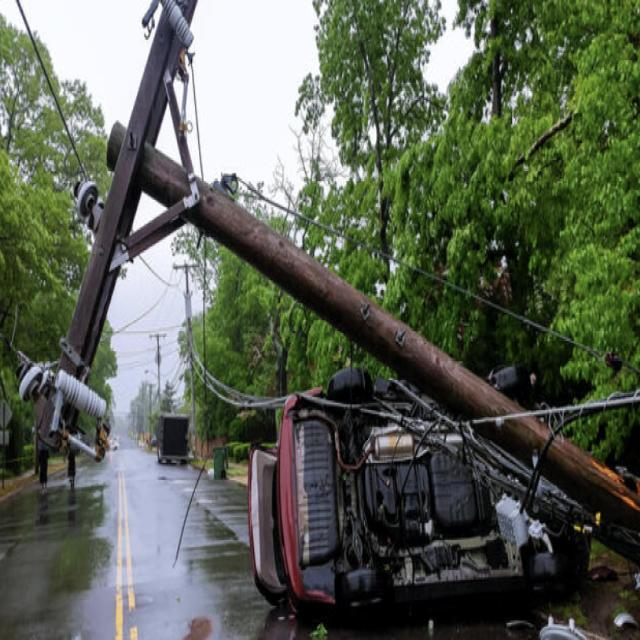Broken Pole: (8, 3, 640, 551)
